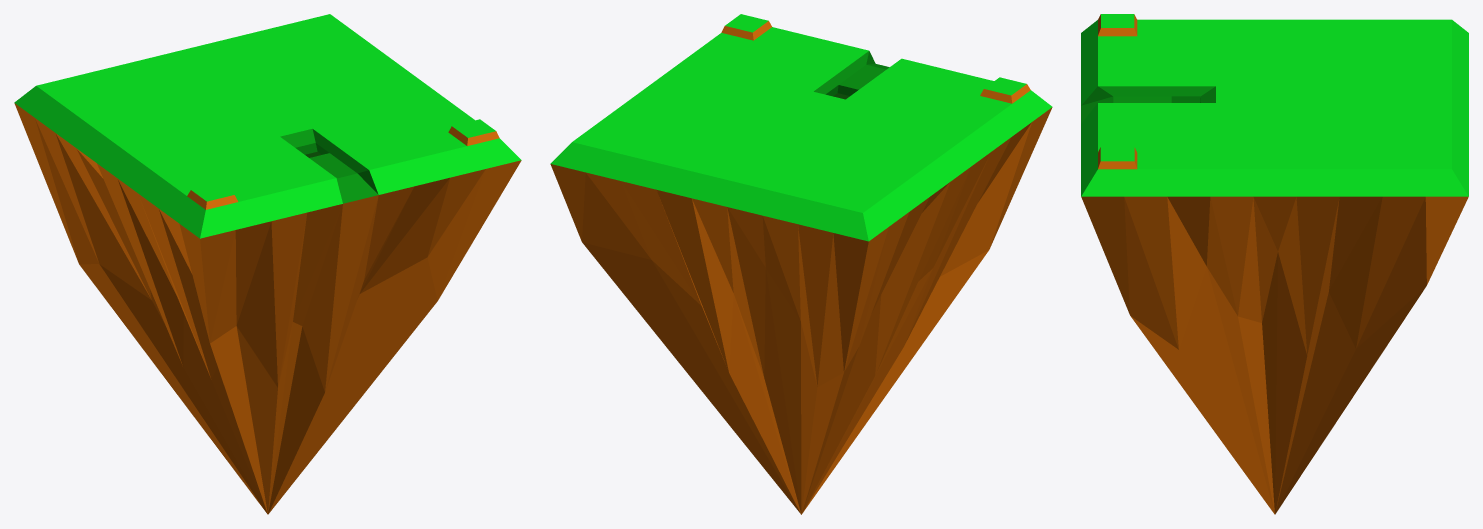
Rendered from ball island2.fbx.
3 views of the same model, side by side, from view 1: azimuth 30°, elevation 25°; view 2: azimuth 150°, elevation 25°; view 3: azimuth 270°, elevation 25° (orthographic). The views are drawn at different scales.
Parts seen in each view (by area): view 1: Grid; view 2: Grid; view 3: Grid.
Boxes of the visible parts, x1,y1,x2,y2 form: Grid: (14, 14, 521, 514); Grid: (550, 14, 1052, 514); Grid: (1081, 14, 1468, 514).
Bounding box in the file's own units: 100000 × 121651 × 100000.
